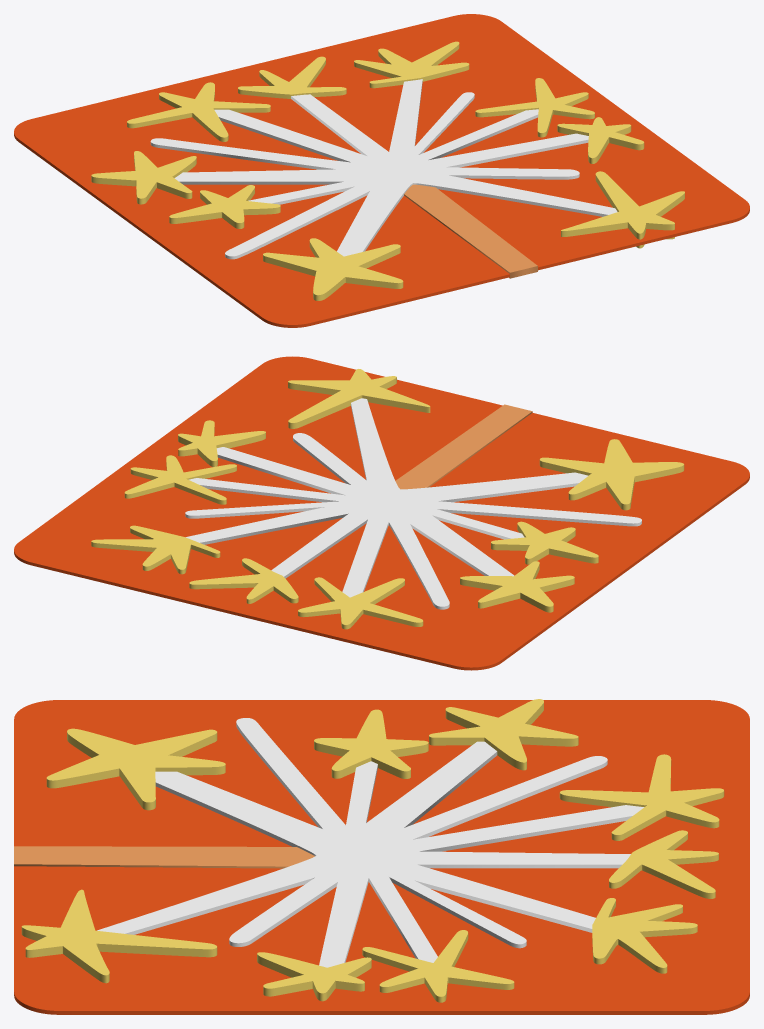
The model's file is emoji_u1f387.glb.
3 renders of one model, top to bottom at view 1: azimuth 30°, elevation 25°; view 2: azimuth 150°, elevation 25°; view 3: azimuth 270°, elevation 25°, orthographic. The views are drawn at different scales.
Visible parts, largest first — view 1: emoji_u1f387; view 2: emoji_u1f387; view 3: emoji_u1f387.
Part boxes in pixels (x1,y1,x2,y2): emoji_u1f387: (14,14,749,327); emoji_u1f387: (14,356,749,670); emoji_u1f387: (14,699,749,1014).
Bounding box in the file's own units: 0.034 × 0.001 × 0.034.
